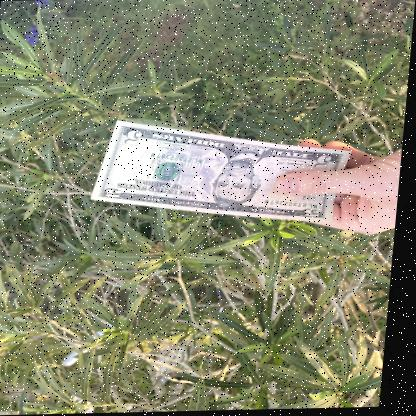five-front: (93, 120, 354, 223)
